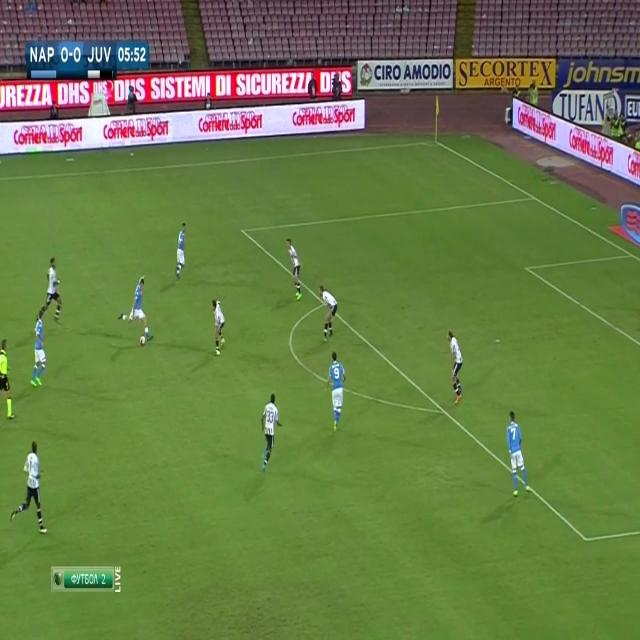Ball: (138, 335, 147, 349)
Player: (7, 438, 48, 536), (504, 404, 533, 501), (118, 270, 154, 344), (34, 252, 67, 324), (258, 390, 284, 470), (322, 351, 347, 434), (446, 326, 467, 405), (28, 310, 48, 391), (284, 235, 306, 304), (318, 284, 340, 344), (211, 295, 229, 360), (172, 220, 190, 282)
Referee: (0, 337, 16, 424)
